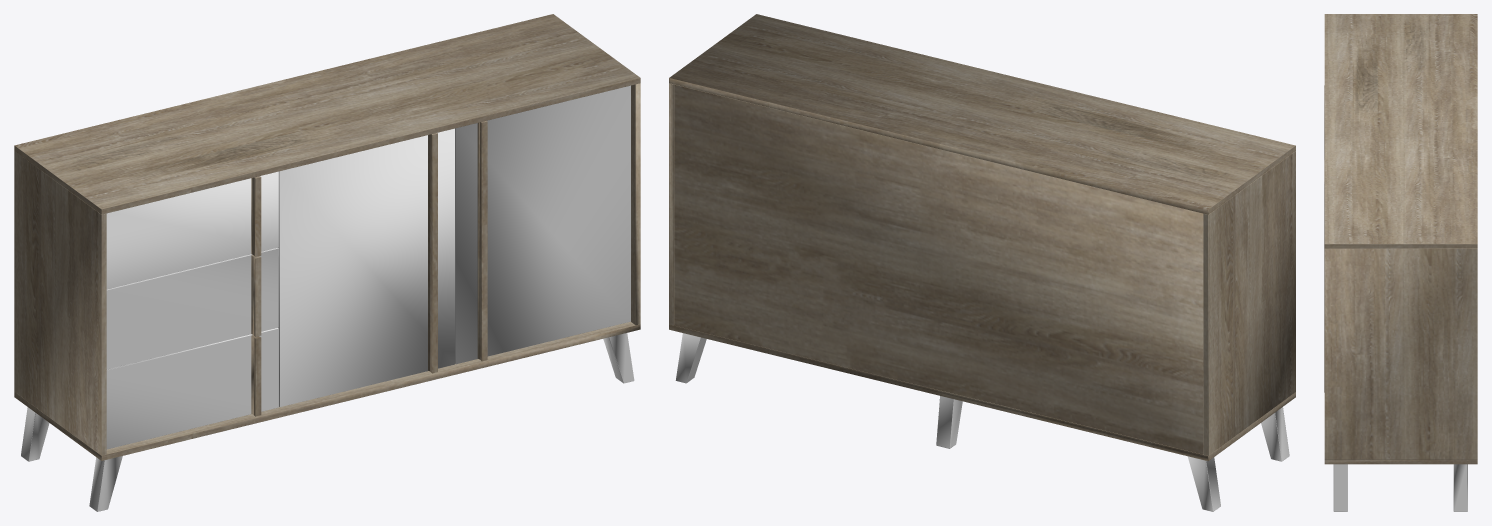
The picture shows the model from 3 angles, left to right: view 1: azimuth 30°, elevation 25°; view 2: azimuth 150°, elevation 25°; view 3: azimuth 270°, elevation 25°; orthographic projection. The views are drawn at different scales.
Parts seen in each view (by area): view 1: RootNode; view 2: RootNode; view 3: RootNode.
Boxes of the visible parts, left/top/right/bottom form: RootNode: left=14, top=14, right=640, bottom=511; RootNode: left=669, top=14, right=1295, bottom=511; RootNode: left=1324, top=14, right=1477, bottom=511.
Size of the model in its own units: 1.6 by 0.8699 by 0.45.
1 material, 1 textured.
